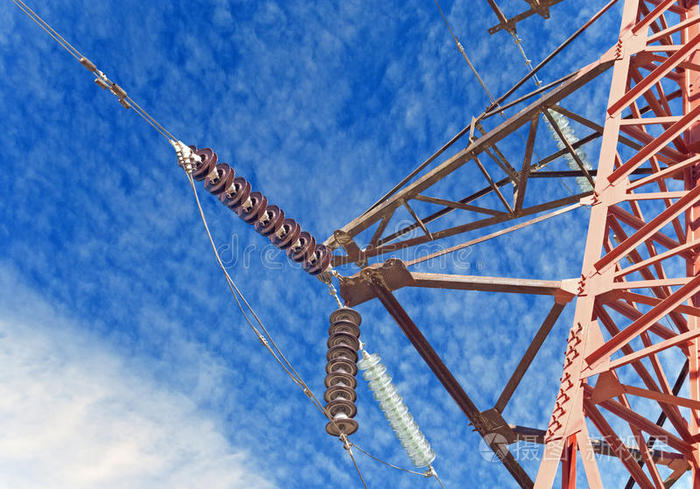insulator: (185, 148, 328, 274), (357, 355, 436, 468), (325, 309, 360, 436), (546, 104, 595, 190)
